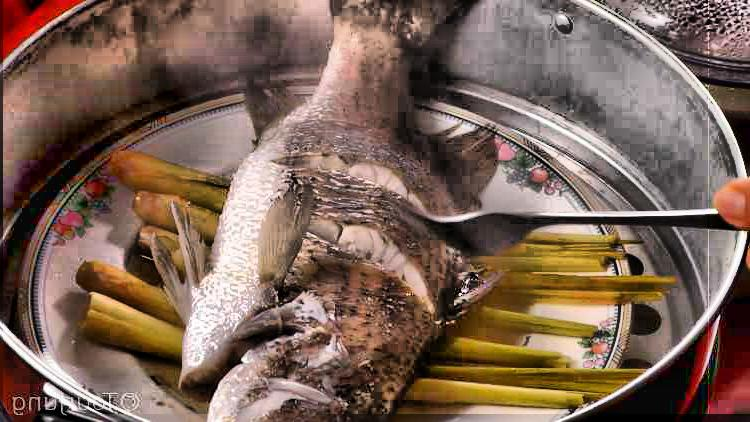fish: (157, 4, 522, 422)
